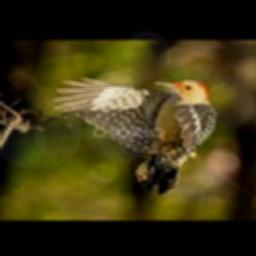Woodpecker: (53, 78, 218, 194)
